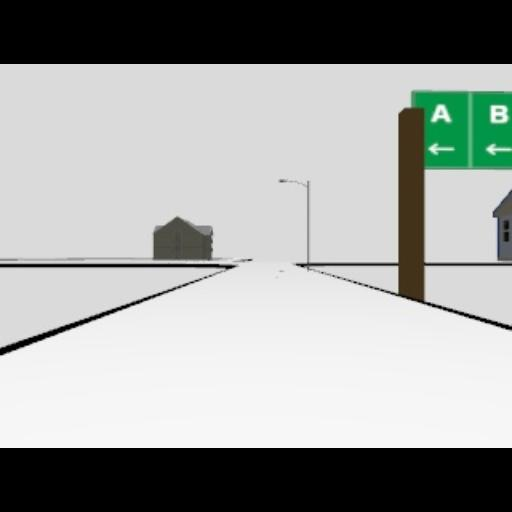A: (429, 101, 451, 123)
B: (488, 104, 508, 124)
Left: (426, 142, 456, 156), (483, 142, 512, 155)
